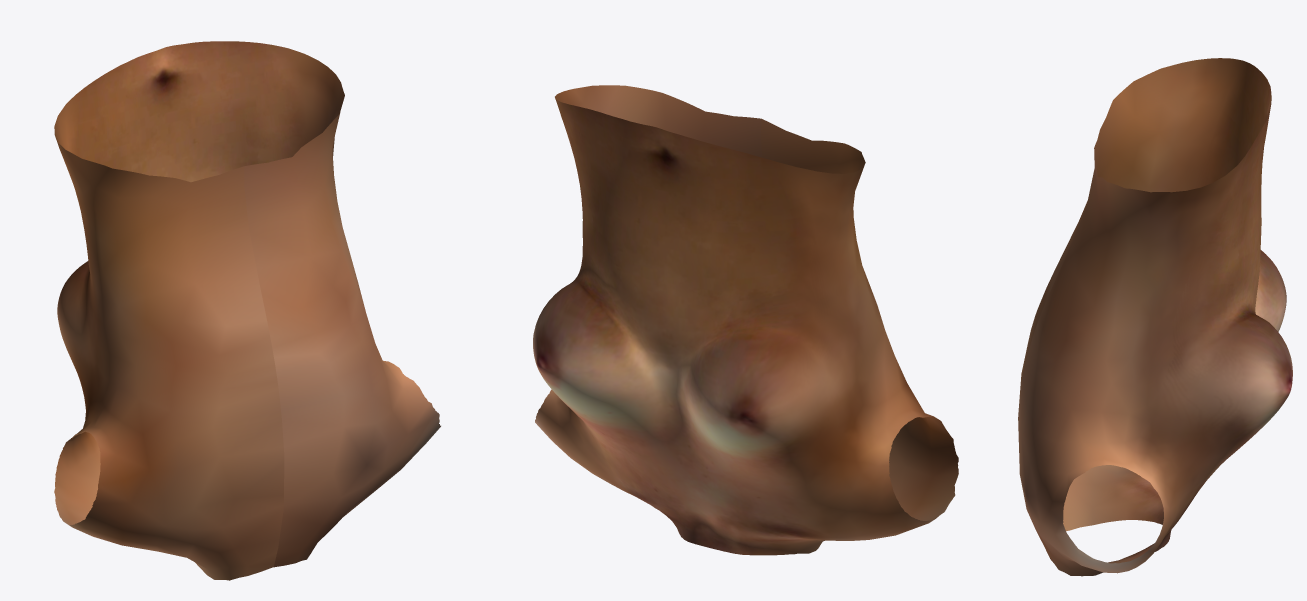
File: increasedModel_Demo_Augmentation.obj
3 views of the same model, side by side, from view 1: azimuth 30°, elevation 25°; view 2: azimuth 150°, elevation 25°; view 3: azimuth 270°, elevation 25° (orthographic). The views are drawn at different scales.
Size of the model in its own units: 48.63 by 49.65 by 25.35.
1 material, 1 textured.
